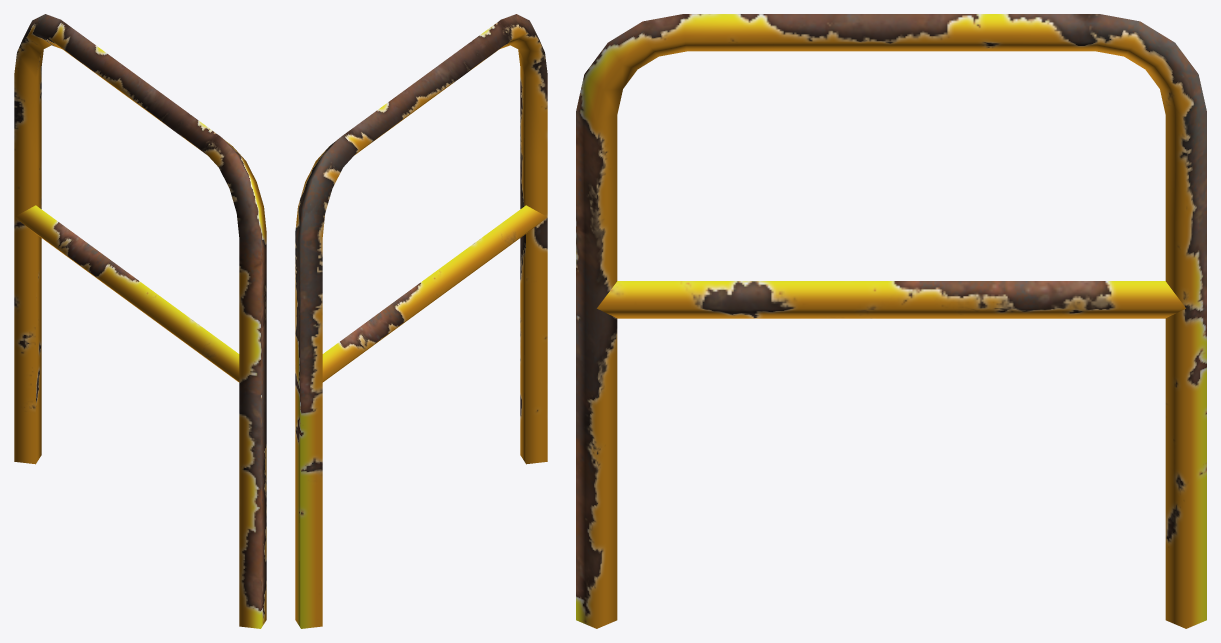
Rendered from safetyRail_single01.fbx.
3 views of the same model, side by side, from view 1: azimuth 30°, elevation 25°; view 2: azimuth 150°, elevation 25°; view 3: azimuth 270°, elevation 25° (orthographic). The views are drawn at different scales.
Visible parts, largest first — view 1: safetyRail_single01; view 2: safetyRail_single01; view 3: safetyRail_single01.
Part boxes in pixels (left/top/right/bottom): safetyRail_single01: left=14, top=14, right=266, bottom=628; safetyRail_single01: left=295, top=14, right=547, bottom=628; safetyRail_single01: left=576, top=14, right=1206, bottom=628.
Size of the model in its own units: 7 by 113 by 107.
